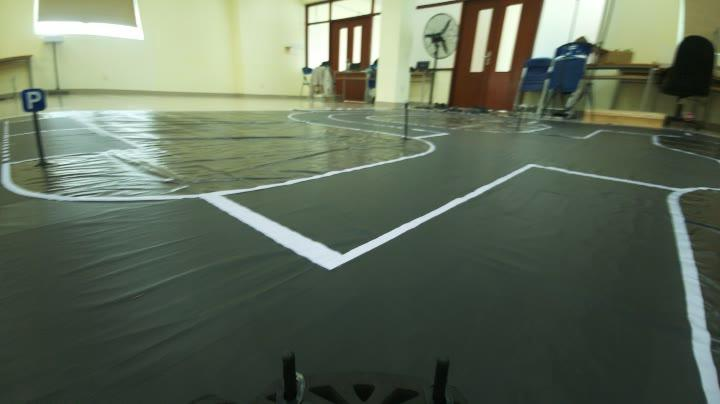parking: (14, 84, 55, 114)
